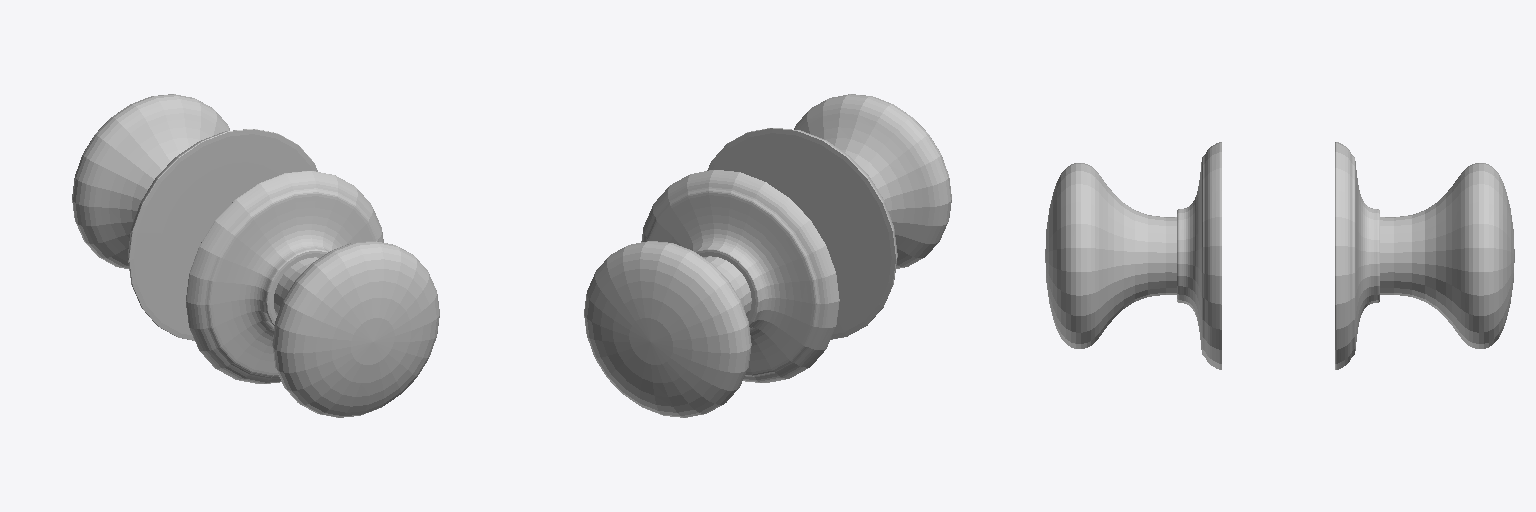
File: porta.obj
The picture shows the model from 3 angles: view 1: azimuth 30°, elevation 25°; view 2: azimuth 150°, elevation 25°; view 3: azimuth 270°, elevation 25°; orthographic projection.
Visible parts, largest first — view 1: revolvedSurface41_2_2, revolvedSurface42_1_1, revolvedSurface44_4_4, revolvedSurface43_3_3; view 2: revolvedSurface43_3_3, revolvedSurface44_4_4, revolvedSurface42_1_1, revolvedSurface41_2_2; view 3: revolvedSurface43_3_3, revolvedSurface41_2_2, revolvedSurface44_4_4, revolvedSurface42_1_1.
Part boxes in pixels (bbox=[...]): revolvedSurface41_2_2: bbox=[272, 241, 439, 417]; revolvedSurface42_1_1: bbox=[186, 171, 383, 383]; revolvedSurface44_4_4: bbox=[128, 129, 317, 340]; revolvedSurface43_3_3: bbox=[72, 94, 229, 268]; revolvedSurface43_3_3: bbox=[584, 241, 751, 417]; revolvedSurface44_4_4: bbox=[641, 170, 839, 382]; revolvedSurface42_1_1: bbox=[707, 128, 897, 339]; revolvedSurface41_2_2: bbox=[794, 94, 951, 268]; revolvedSurface43_3_3: bbox=[1380, 163, 1514, 348]; revolvedSurface41_2_2: bbox=[1045, 163, 1176, 348]; revolvedSurface44_4_4: bbox=[1335, 142, 1379, 369]; revolvedSurface42_1_1: bbox=[1177, 142, 1221, 369].
Size of the model in its own units: 8.18 by 8.19 by 16.72.